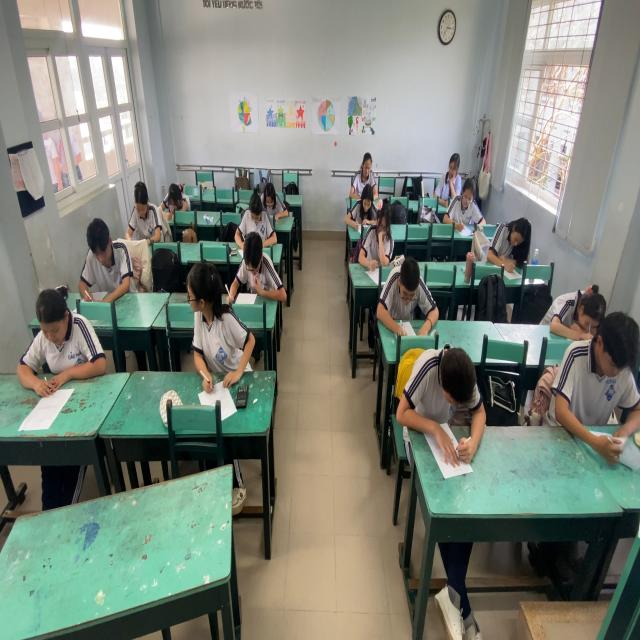cheating: (184, 256, 254, 386)
not_cheating: (566, 313, 633, 446), (21, 283, 102, 385), (414, 342, 474, 445), (72, 210, 138, 294), (234, 227, 284, 304), (380, 256, 429, 325), (126, 183, 171, 252), (554, 276, 598, 338), (362, 203, 397, 270), (448, 174, 487, 230), (494, 214, 529, 268), (348, 183, 380, 231), (239, 186, 267, 237), (258, 170, 285, 218), (355, 147, 377, 196), (439, 149, 462, 194), (164, 176, 189, 214)
